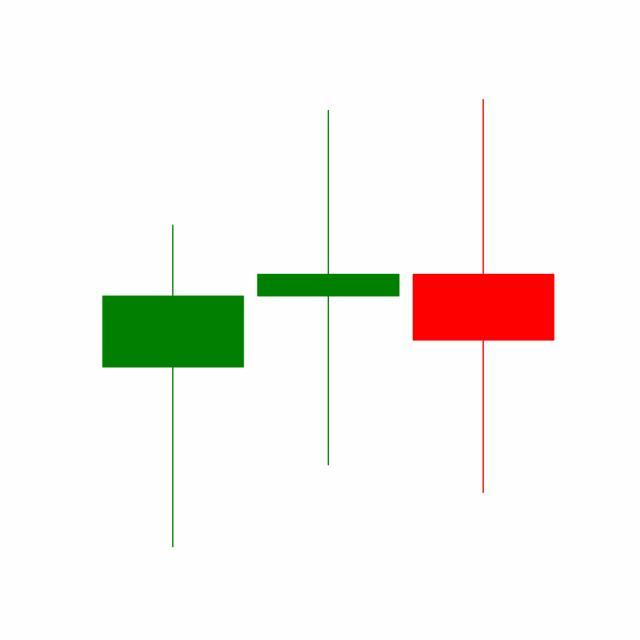Spinning Top: (250, 107, 407, 471)
